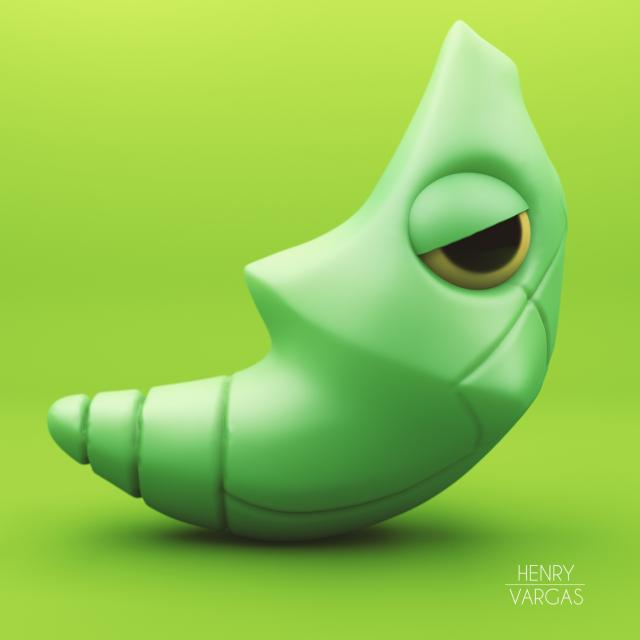Metapod: (37, 23, 573, 568)
